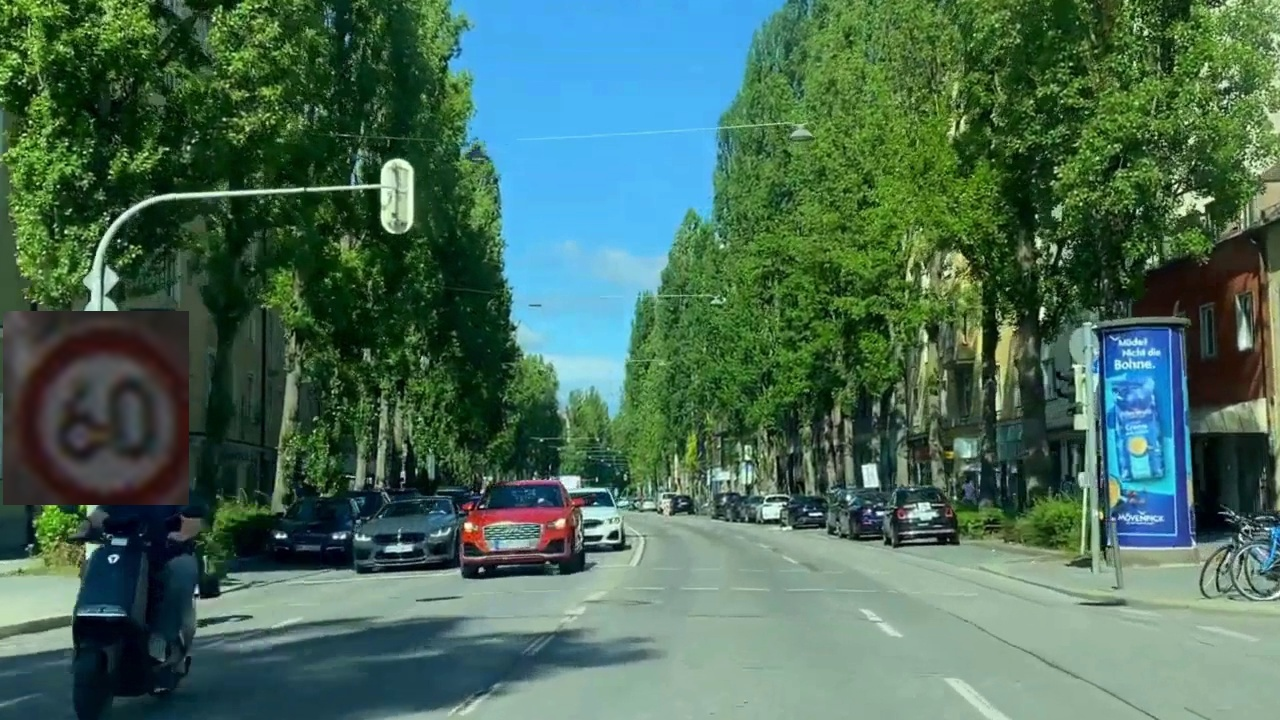Speed 60: (3, 311, 189, 505)
